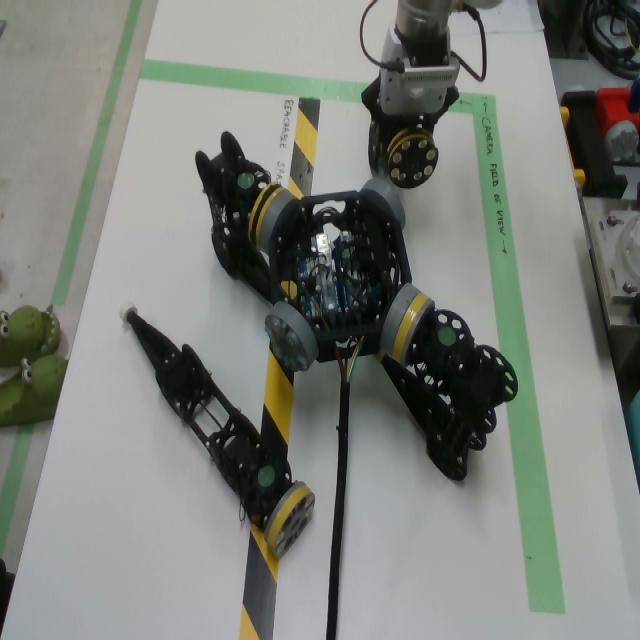body: (269, 191, 412, 364)
body_connector: (265, 301, 320, 373), (380, 283, 420, 356), (258, 191, 299, 256), (361, 177, 406, 231)
gripper: (361, 69, 460, 144)
leg: (119, 299, 316, 557), (372, 291, 519, 481), (195, 132, 283, 303), (368, 116, 439, 189)
leg_connector: (264, 481, 316, 559), (388, 127, 439, 189), (392, 293, 434, 365), (247, 183, 283, 251)
leg_marker: (258, 465, 275, 488), (237, 172, 255, 189), (438, 327, 456, 344)
